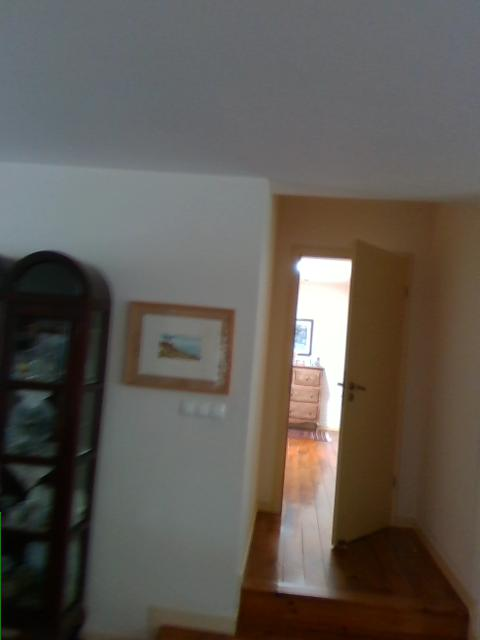semi_door: (275, 232, 415, 553)
